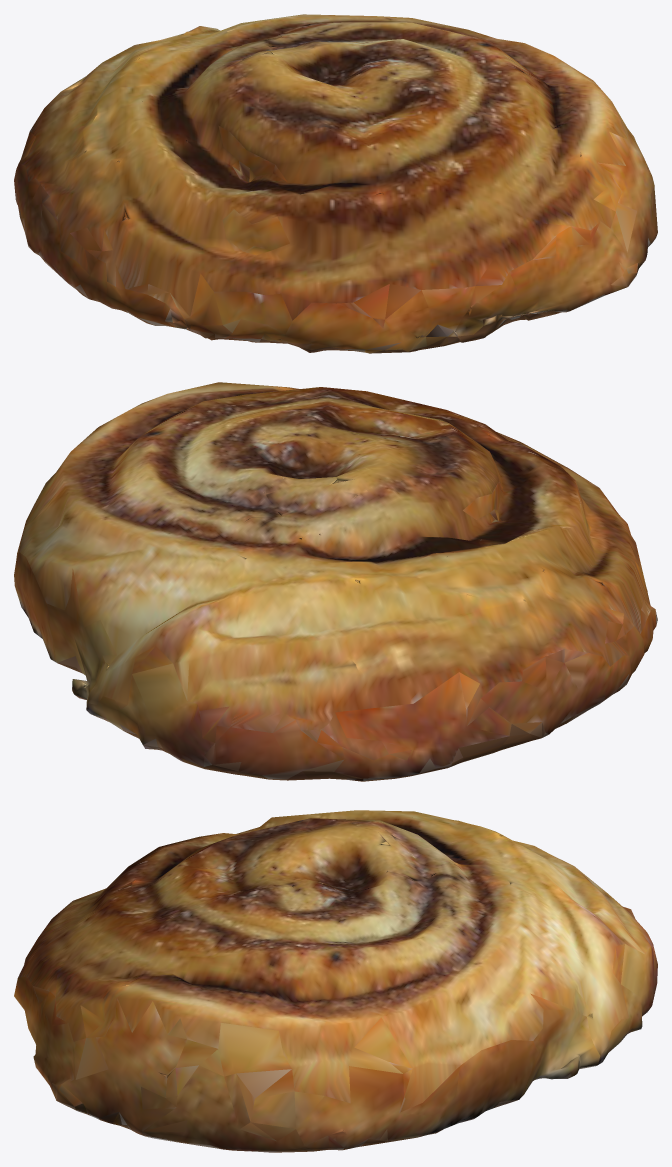
The model's file is cinnamon_2542.obj.
3 views of the same model, one above another, from view 1: azimuth 30°, elevation 25°; view 2: azimuth 150°, elevation 25°; view 3: azimuth 270°, elevation 25° (orthographic). The views are drawn at different scales.
Size of the model in its own units: 110 by 34.09 by 115.
1 material, 1 textured.
